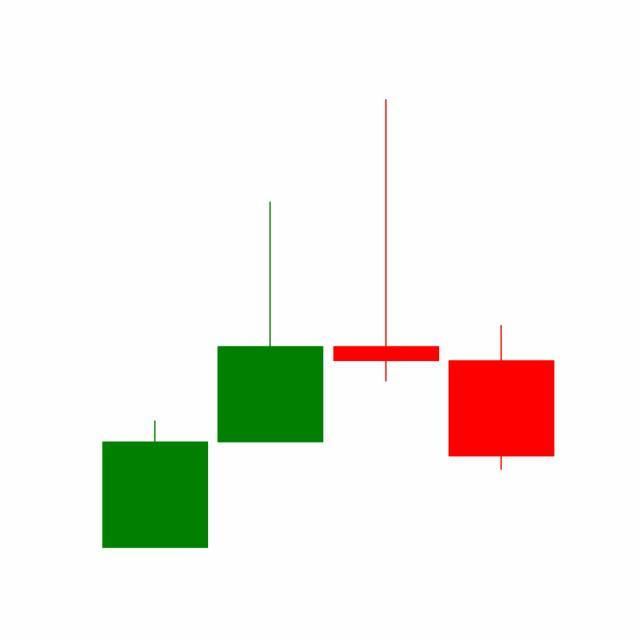Spinning Top: (329, 96, 445, 385)
